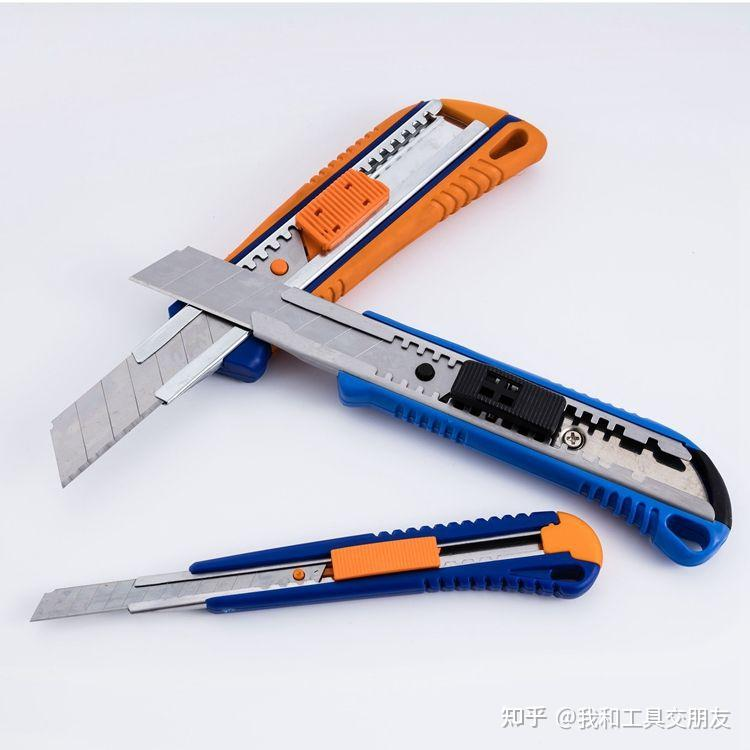cutter: (48, 99, 550, 489), (124, 245, 733, 566), (27, 510, 604, 621)
